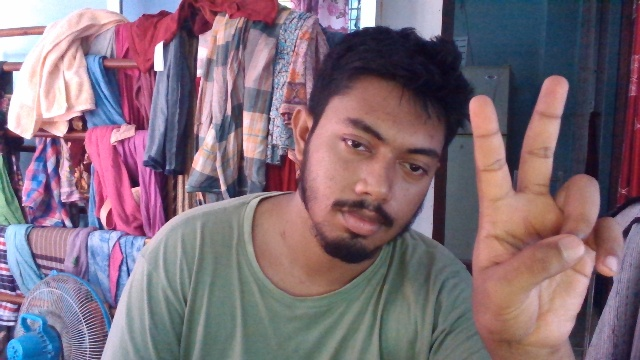thanks: (467, 74, 625, 356)
